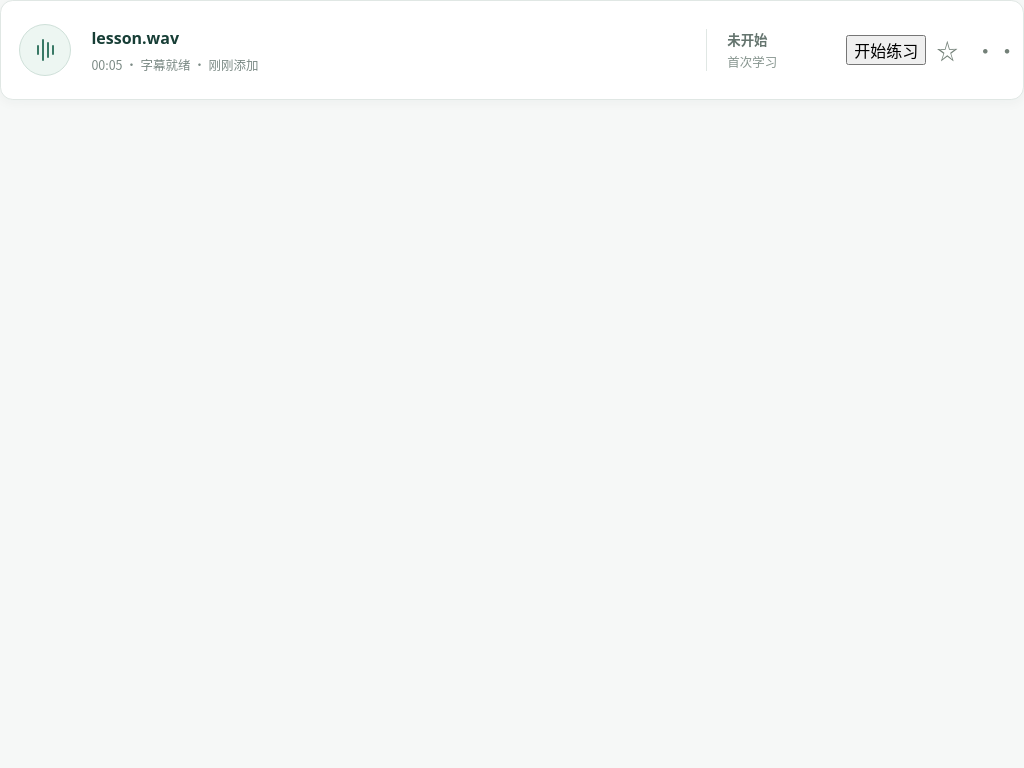
Test: MaterialRow › closes the rename dialog with Escape without saving
The width and height of the screenshot is (1024, 768).
Click the button named "更多操作 lesson.wav". click: (987, 50)
box: left=969, top=32, right=1005, bottom=68
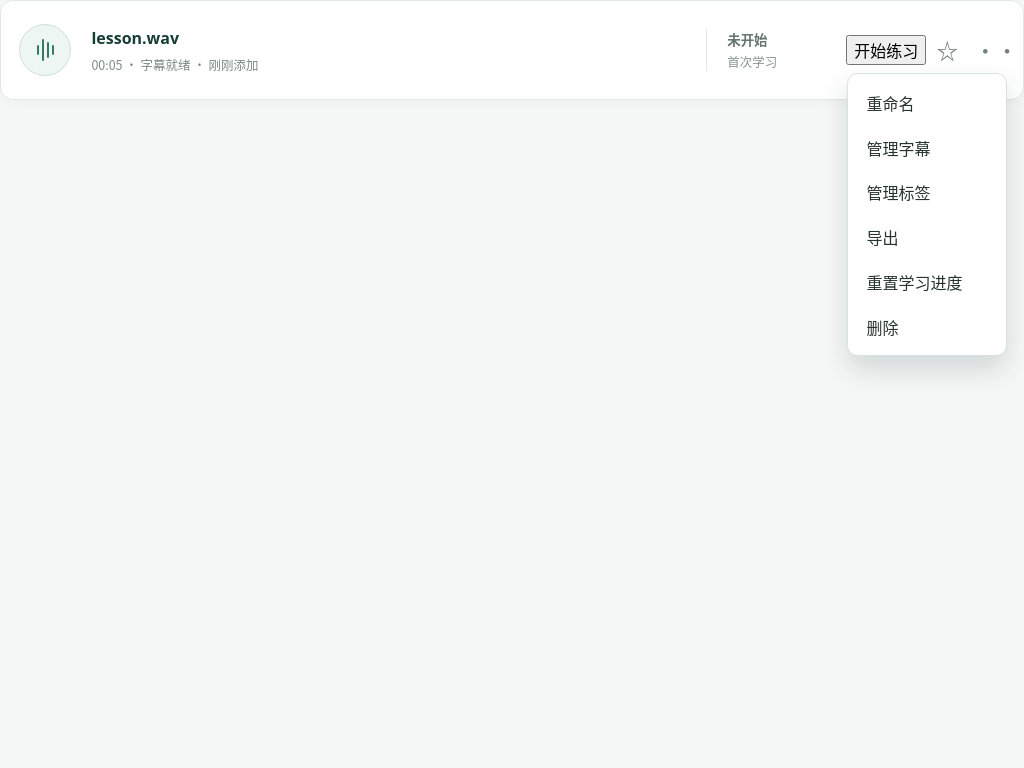
Click the menu item "重命名". click: (927, 103)
box: left=854, top=80, right=1000, bottom=125
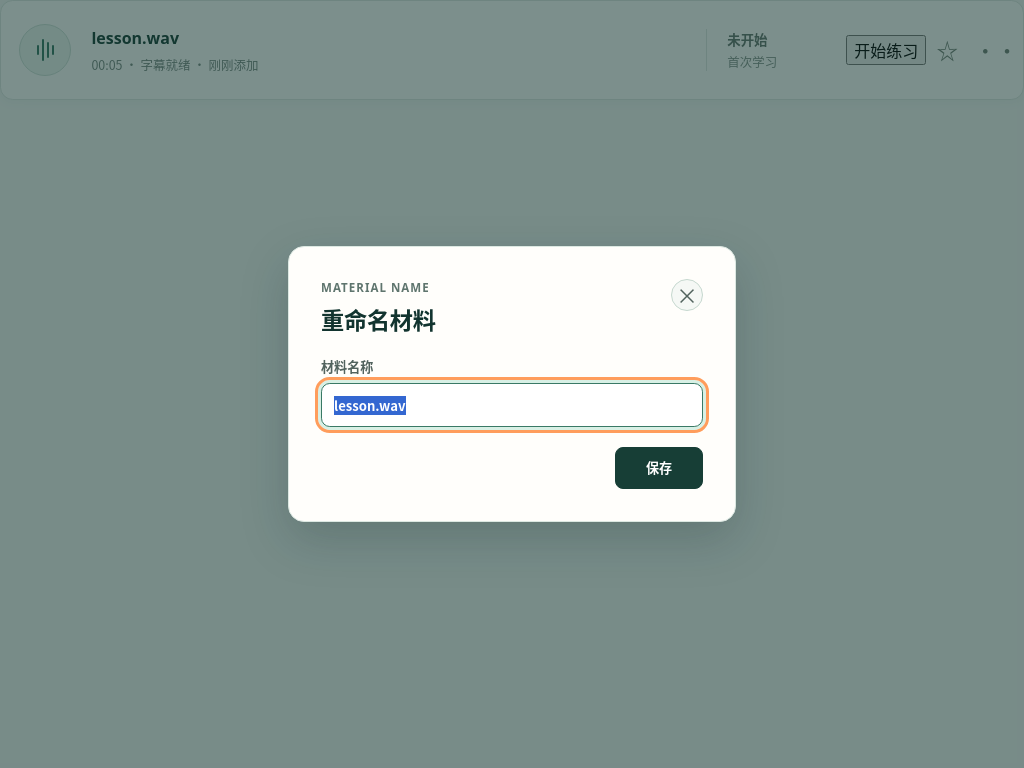
Press Escape in the dialog "重命名材料", box left=288, top=246, right=736, bottom=522
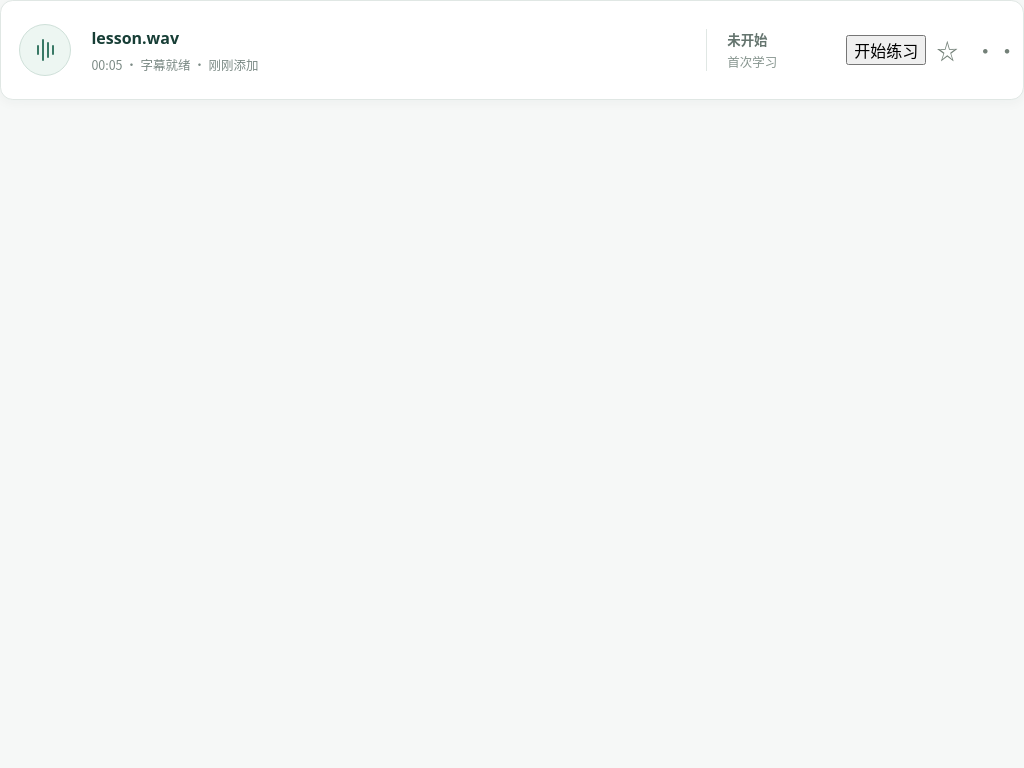
expect the heading "重命名材料" is gone: met
